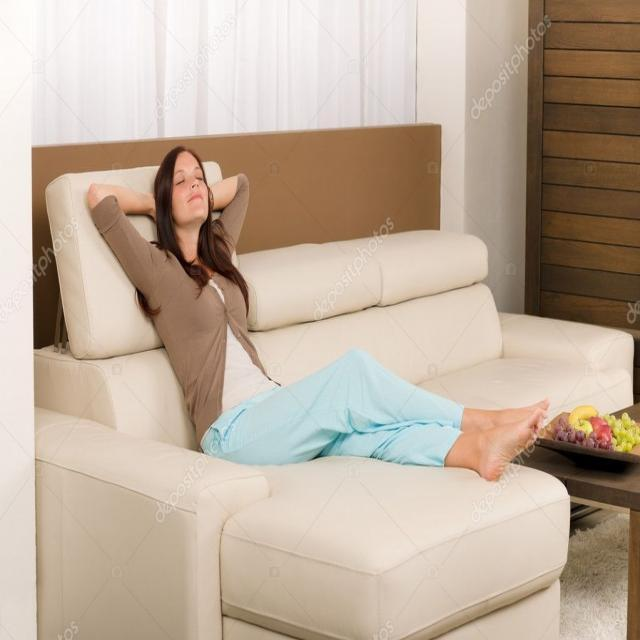sitting: (89, 131, 559, 493)
